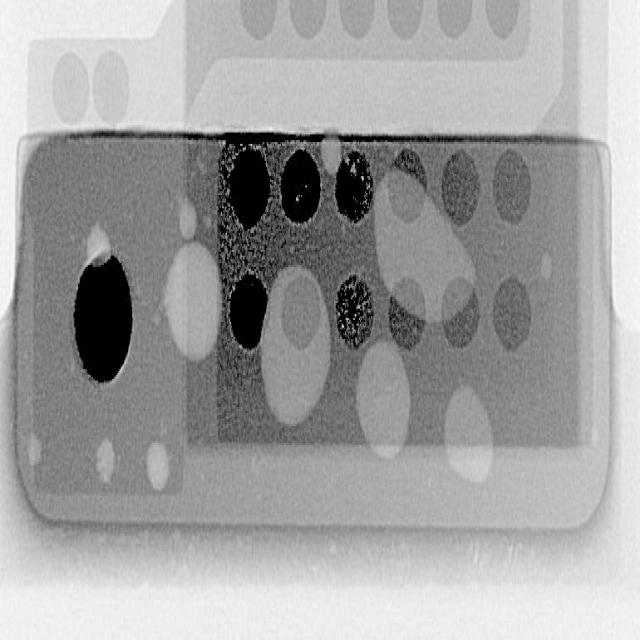component: (14, 131, 612, 525), (186, 0, 532, 105), (27, 2, 185, 130), (539, 0, 579, 133)
void: (376, 167, 476, 321), (261, 265, 331, 424), (164, 242, 222, 360), (358, 341, 410, 457), (446, 384, 494, 482), (146, 441, 169, 490), (96, 437, 115, 484), (180, 197, 196, 239), (27, 434, 41, 466)
